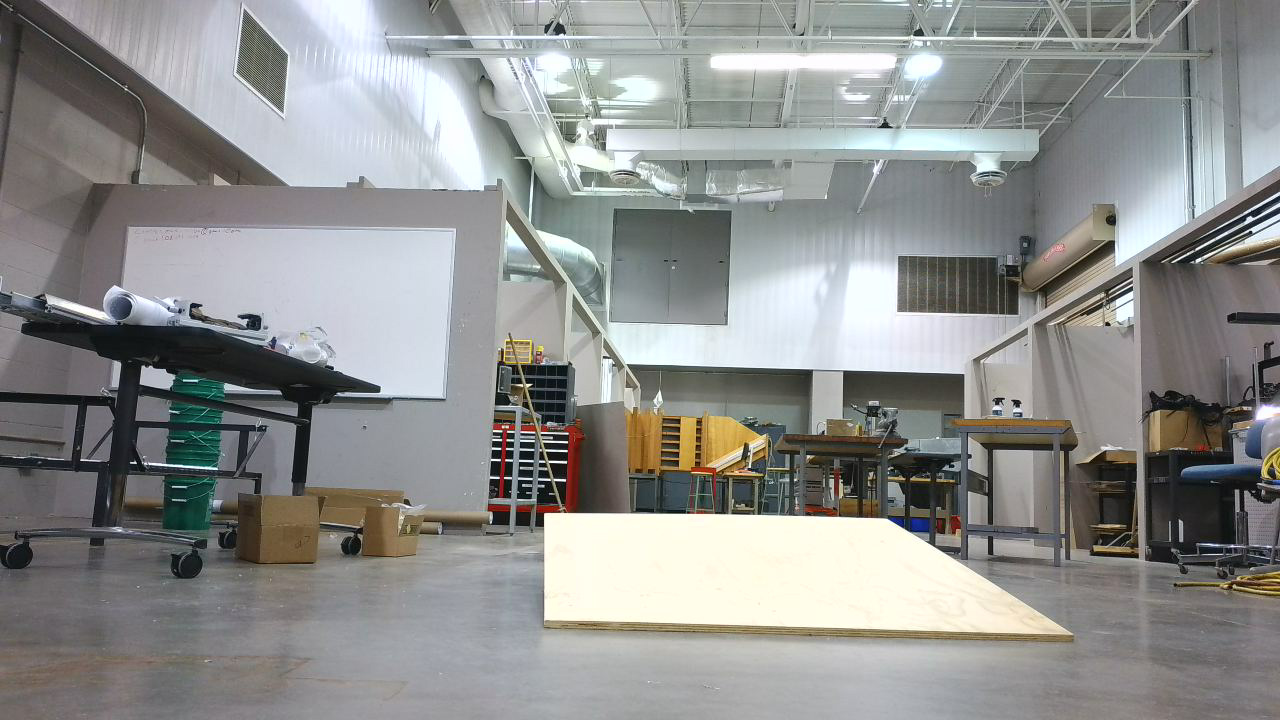ramp: (544, 514, 1091, 650)
